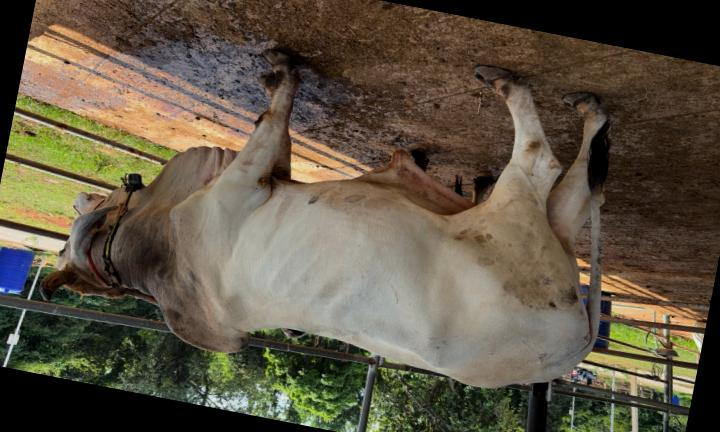Brahman: (40, 49, 611, 387)
